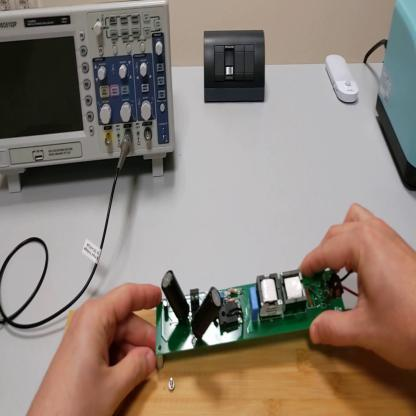hand: (301, 205, 416, 368), (27, 280, 163, 416)
high voltage board: (154, 265, 364, 354)
oscilloscope: (1, 2, 178, 190)
welder station: (376, 3, 416, 196)
working area: (66, 309, 416, 416)
